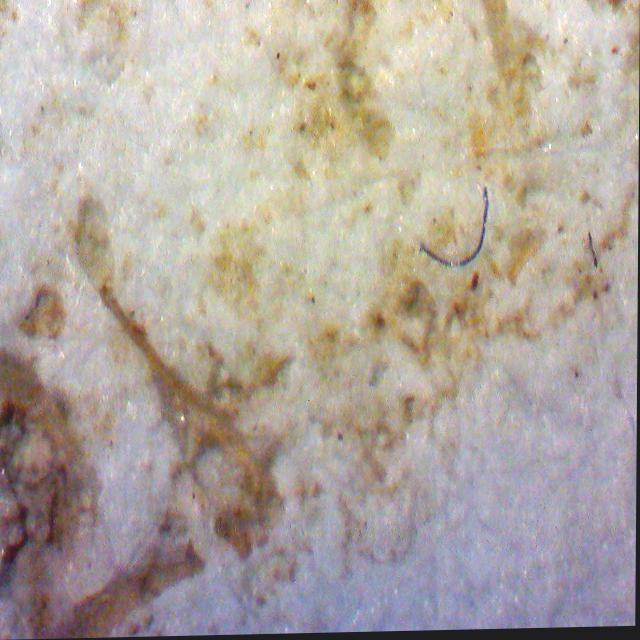microplastic: (419, 189, 488, 269), (588, 234, 598, 271)
